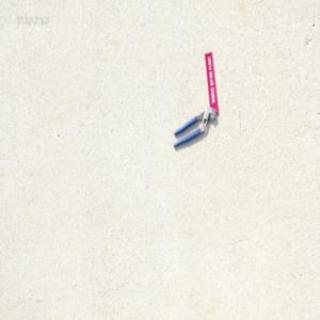LuggageTagtrack_idkeyframe: (204, 49, 218, 114)
Pliertrack_idkeyframe: (171, 105, 215, 148)
